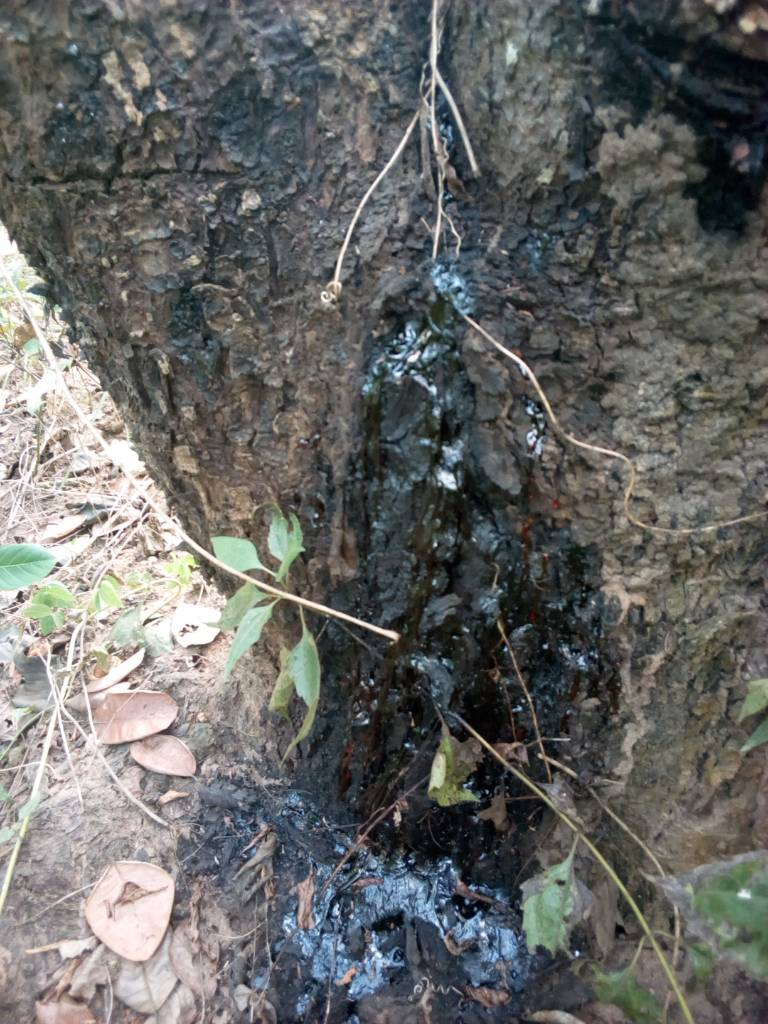Gommose: (341, 344, 588, 930)
